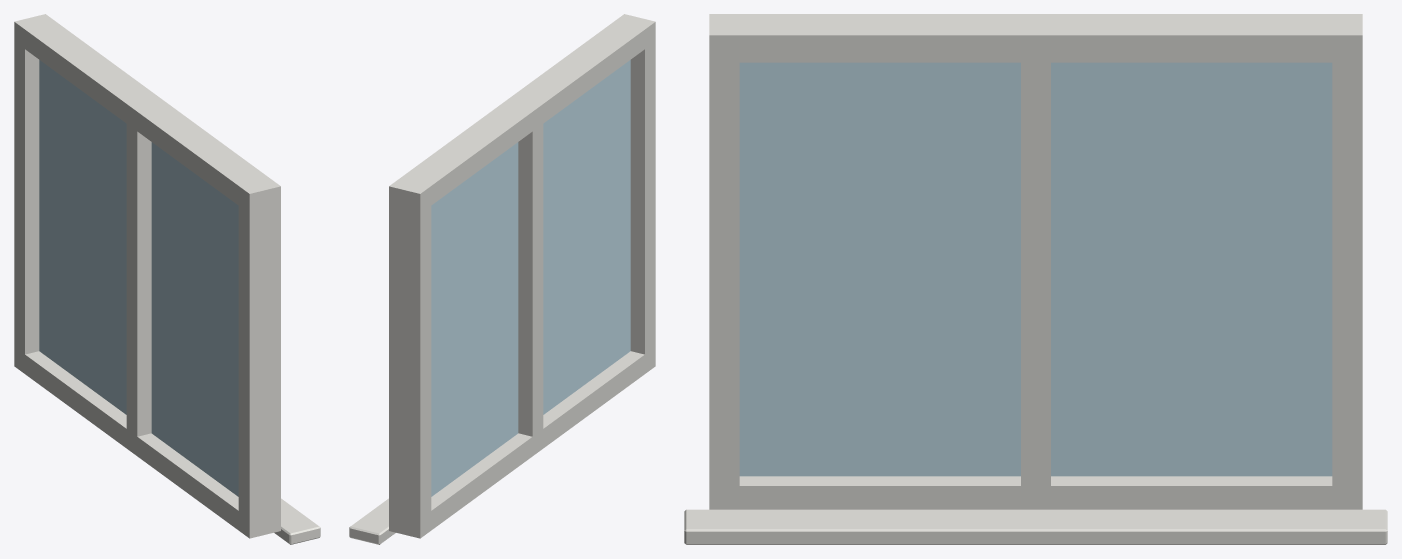
Rendered from Ventana.fbx.
3 views of the same model, side by side, from view 1: azimuth 30°, elevation 25°; view 2: azimuth 150°, elevation 25°; view 3: azimuth 270°, elevation 25° (orthographic). The views are drawn at different scales.
Parts seen in each view (by area): view 1: window_Ventana; view 2: window_Ventana; view 3: window_Ventana.
Boxes of the visible parts, bbox=[...] form: window_Ventana: bbox=[14, 14, 320, 544]; window_Ventana: bbox=[349, 14, 655, 544]; window_Ventana: bbox=[684, 14, 1387, 544].
Bounding box in the file's own units: 0.2 × 1.07 × 1.4.
